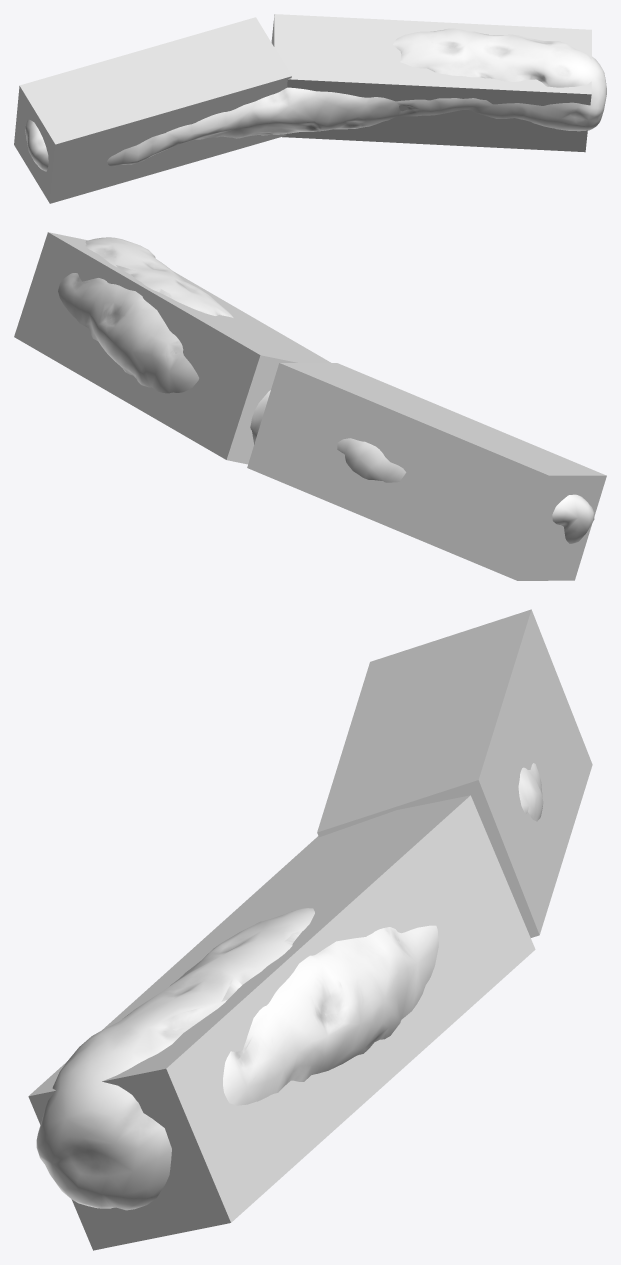
File: Coral_16.glb
3 renders of one model, top to bottom at view 1: azimuth 30°, elevation 25°; view 2: azimuth 150°, elevation 25°; view 3: azimuth 270°, elevation 25°, orthographic. The views are drawn at different scales.
Visible parts, largest first — view 1: Cube.042, Cube.041, A03612_Koralle16.001; view 2: Cube.042, Cube.041, A03612_Koralle16.001; view 3: Cube.041, A03612_Koralle16.001, Cube.042.
Part boxes in pixels (x1,y1,x2,y2): Cube.042: (14, 17, 291, 203); Cube.041: (271, 14, 591, 152); A03612_Koralle16.001: (25, 28, 606, 171); Cube.042: (247, 363, 606, 580); Cube.041: (14, 232, 330, 464); A03612_Koralle16.001: (58, 237, 594, 543); Cube.041: (28, 795, 535, 1250); A03612_Koralle16.001: (36, 763, 543, 1210); Cube.042: (317, 609, 592, 937).
Size of the model in its own units: 0.401 by 0.0957 by 0.1951.
Materials: 1 (1 with a texture image).
